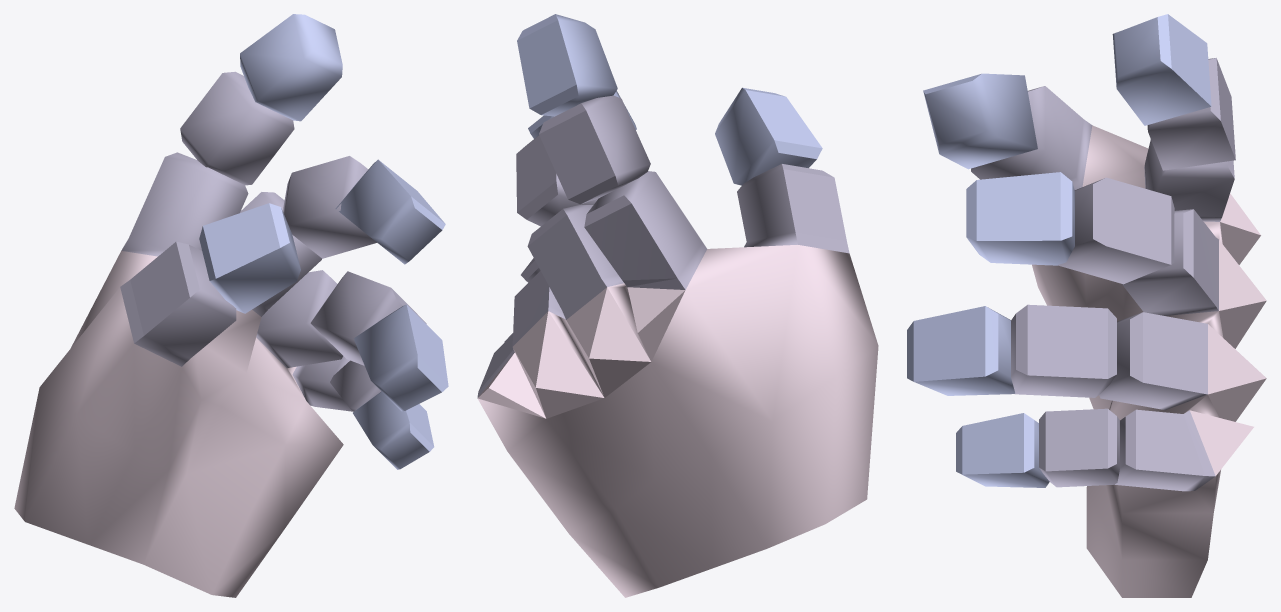
3 renders of one model, left to right at view 1: azimuth 30°, elevation 25°; view 2: azimuth 150°, elevation 25°; view 3: azimuth 270°, elevation 25°, orthographic. The views are drawn at different scales.
Parts seen in each view (by area): view 1: Object06; view 2: Object06; view 3: Object06.
Boxes of the visible parts, bbox=[...] form: Object06: bbox=[14, 14, 448, 597]; Object06: bbox=[477, 14, 878, 597]; Object06: bbox=[907, 14, 1266, 597].
Bounding box in the file's own units: 216 × 308 × 160.
